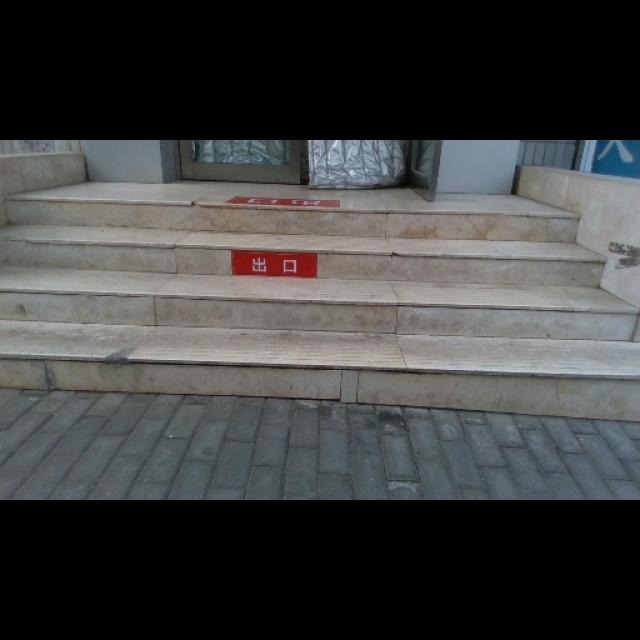Stairs: (0, 145, 639, 420)
